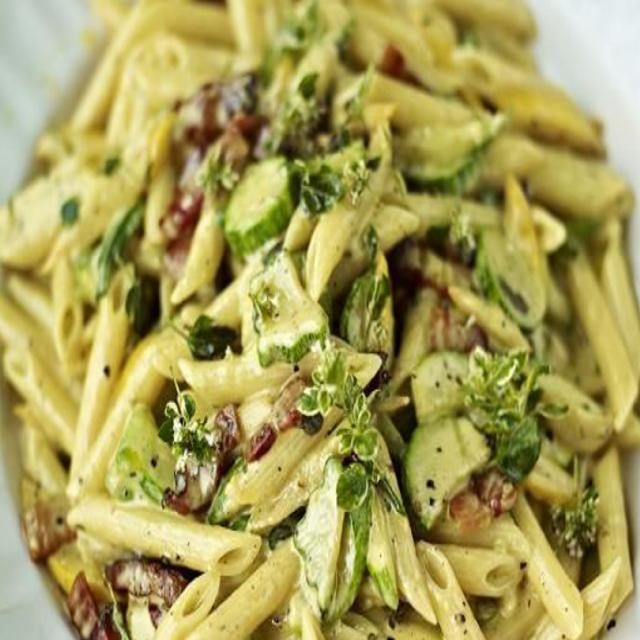Pasta with carbonara sauce: (57, 45, 640, 623)
